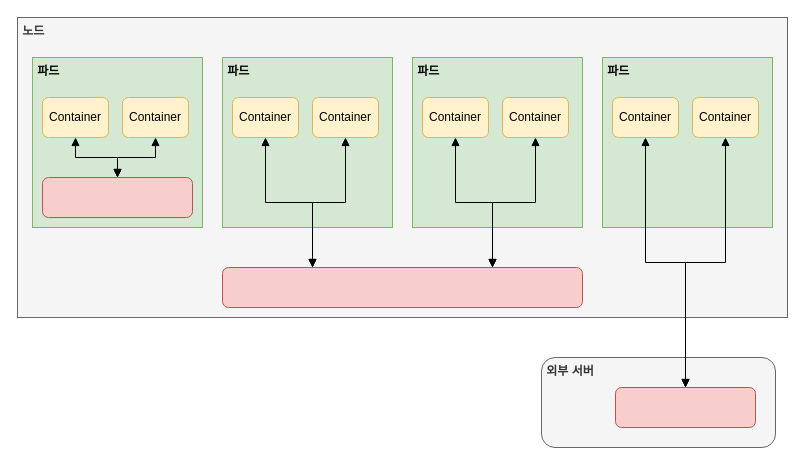
This 805x465 diagram has some shape labels left out. Each missing label, with the centre of its shape:
"emptyDir" goes at point (117, 197).
"hostPath" goes at point (402, 287).
"PersistentVolume" goes at point (685, 407).
